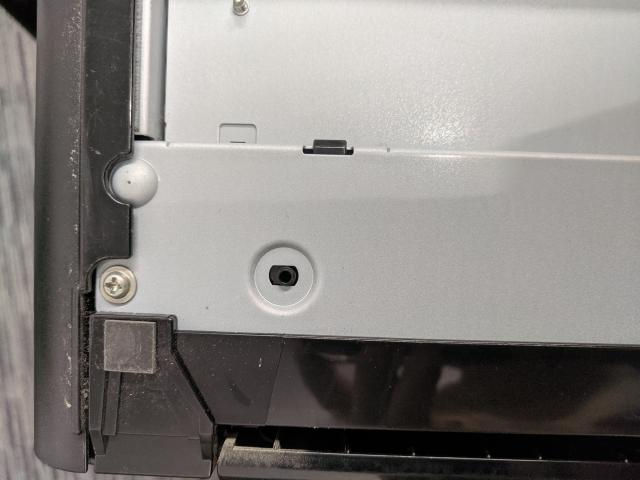CRS: (99, 270, 135, 300)
